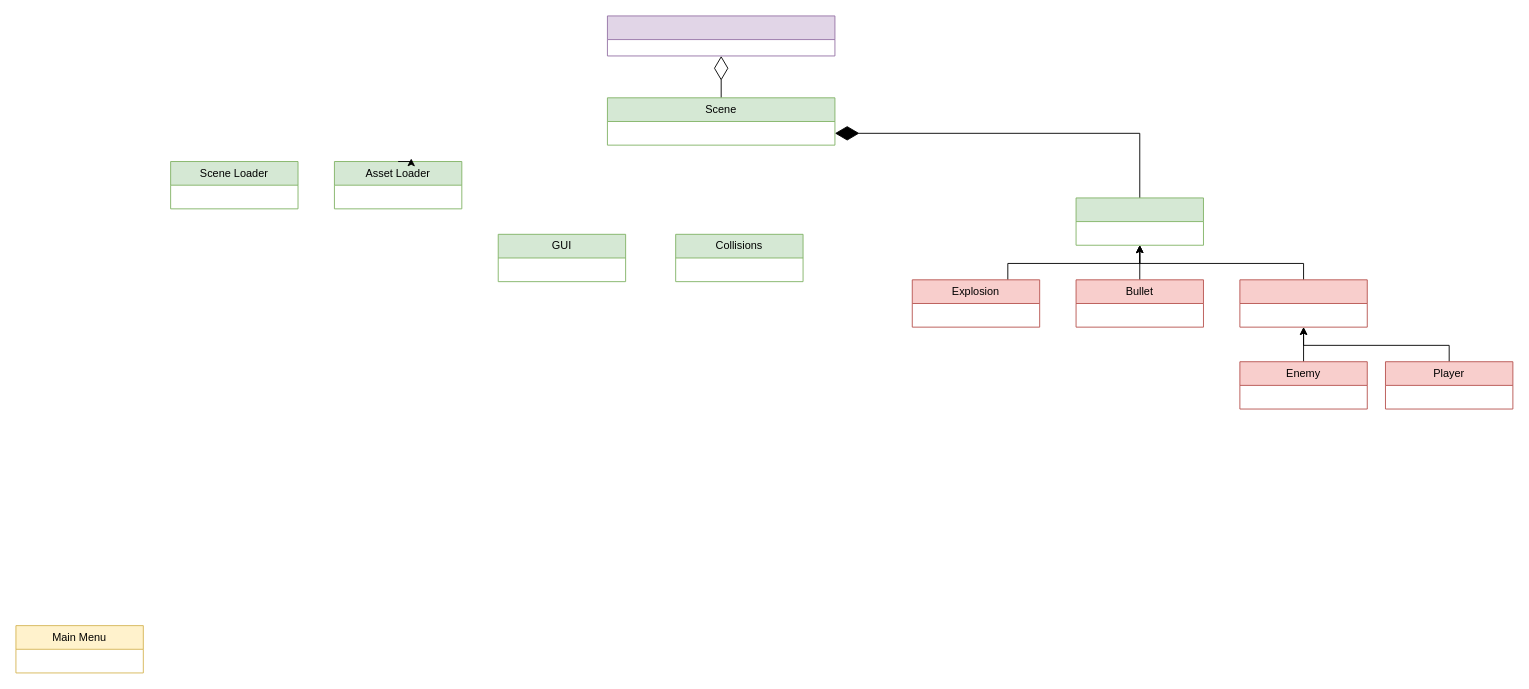
Image size: 1529x689. Some labels were removed from this diagram. Each missing label, with the centre of its shape:
"Entity" goes at [1139,221].
"Program" goes at [721,35].
"Ship" goes at [1303,303].
